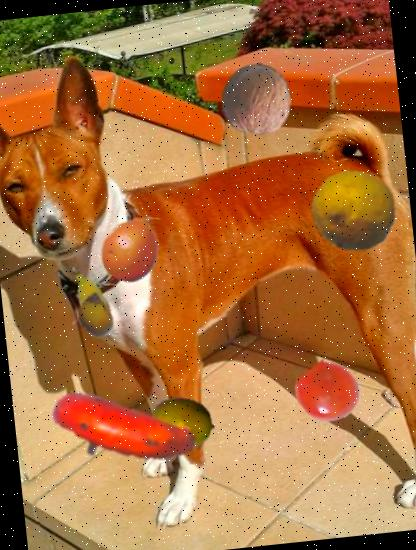Banana: (40, 353, 204, 516), (47, 260, 132, 344)
Lemon: (307, 164, 400, 258)
Maracuja: (148, 387, 218, 458)
Redcurrant: (294, 359, 361, 426)
Tangelo: (94, 212, 168, 286)
Walnut: (216, 60, 296, 140)
